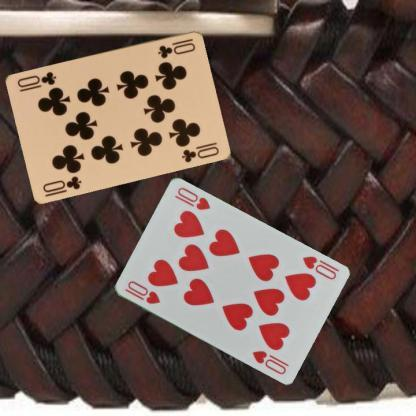10c: (40, 172, 82, 198), (155, 36, 197, 60)
10h: (300, 252, 338, 282), (122, 278, 161, 306)
